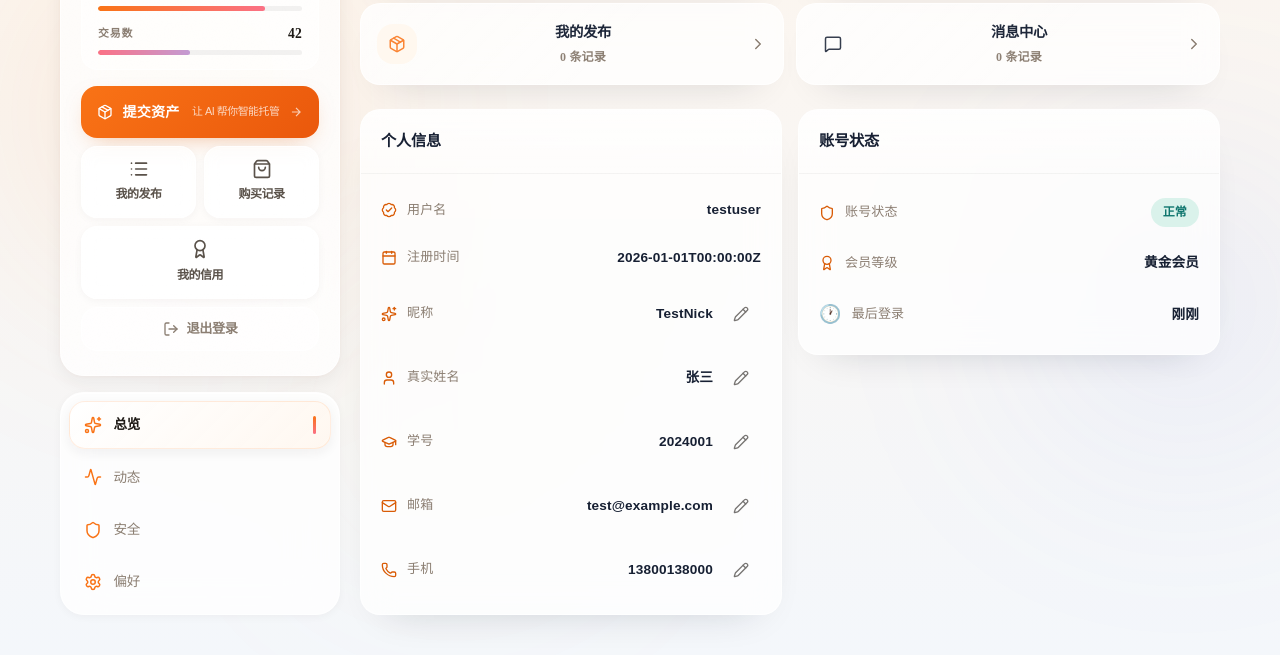
ProfilePage › cancels inline editing
(page scrolled)
Click the button without text in the row of "昵称" at {"x": 741, "y": 314}, box [721,294,761,334]
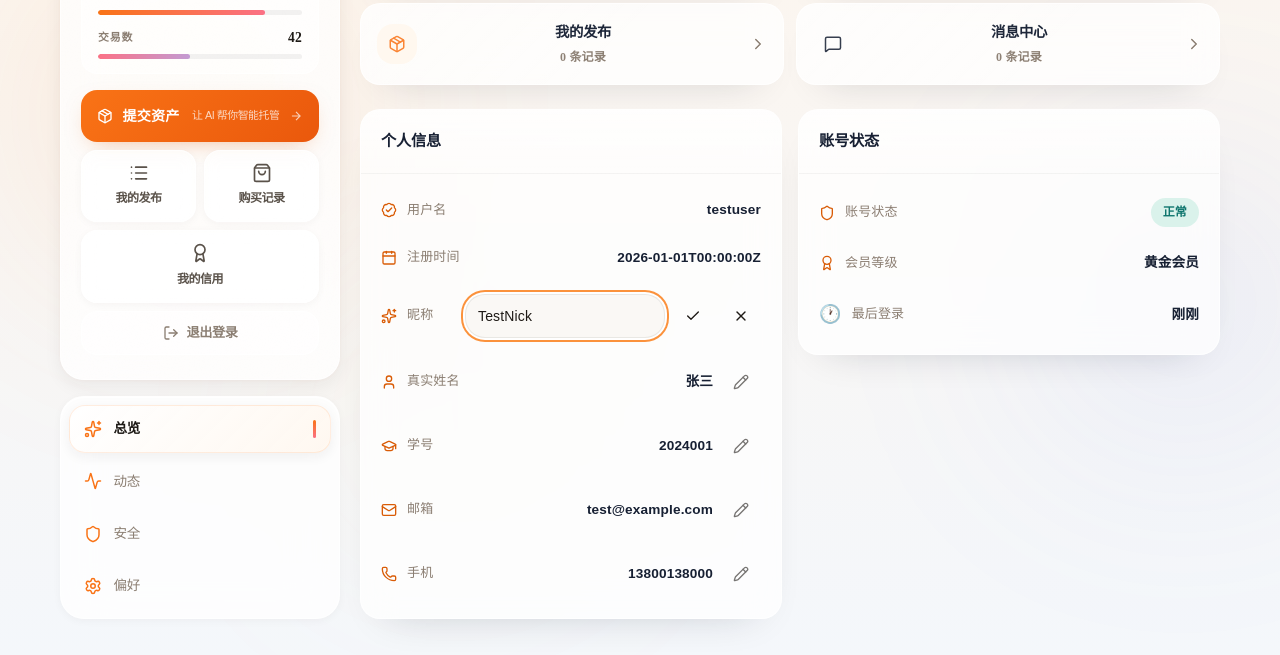
expect the field is shown: met, box [465,294,665,338]
Click the button with class "profile-action-cancel" at {"x": 741, "y": 316}, box [721,296,761,336]
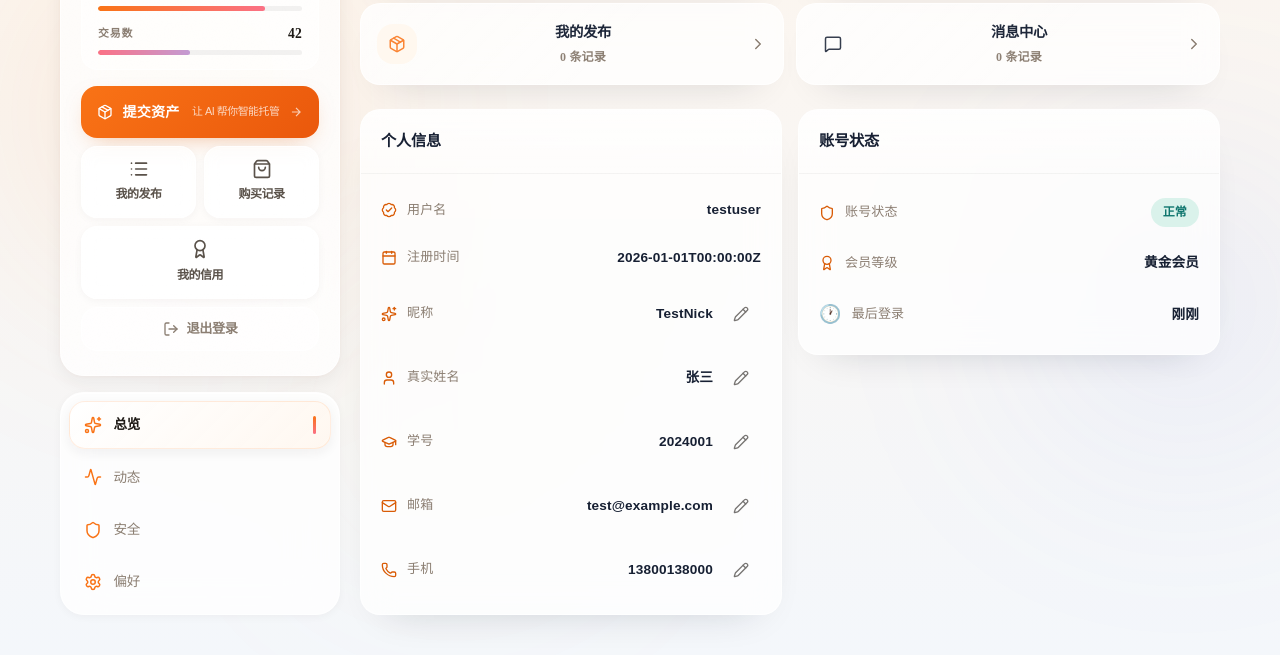
expect the field is gone: met
